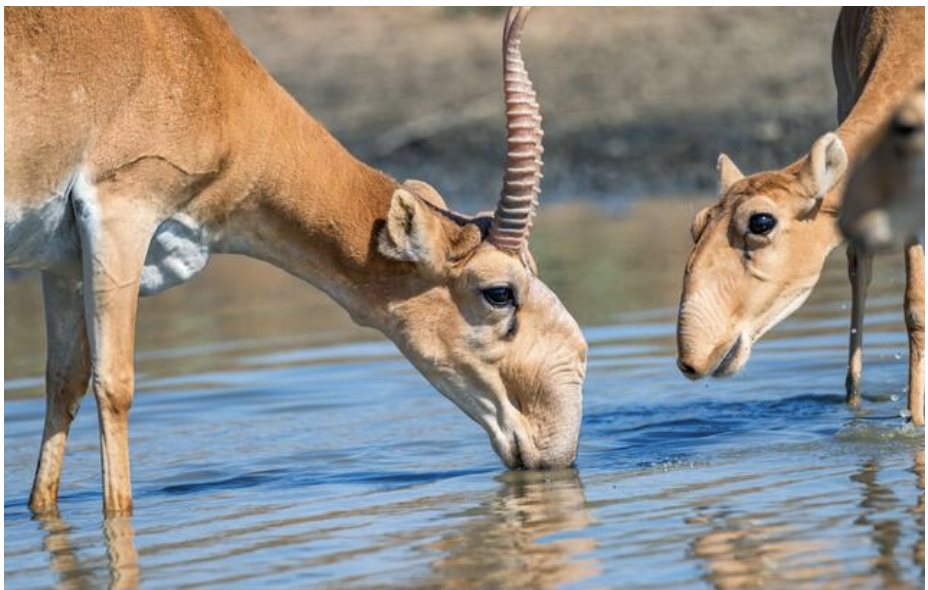saiga: (7, 6, 621, 551)
